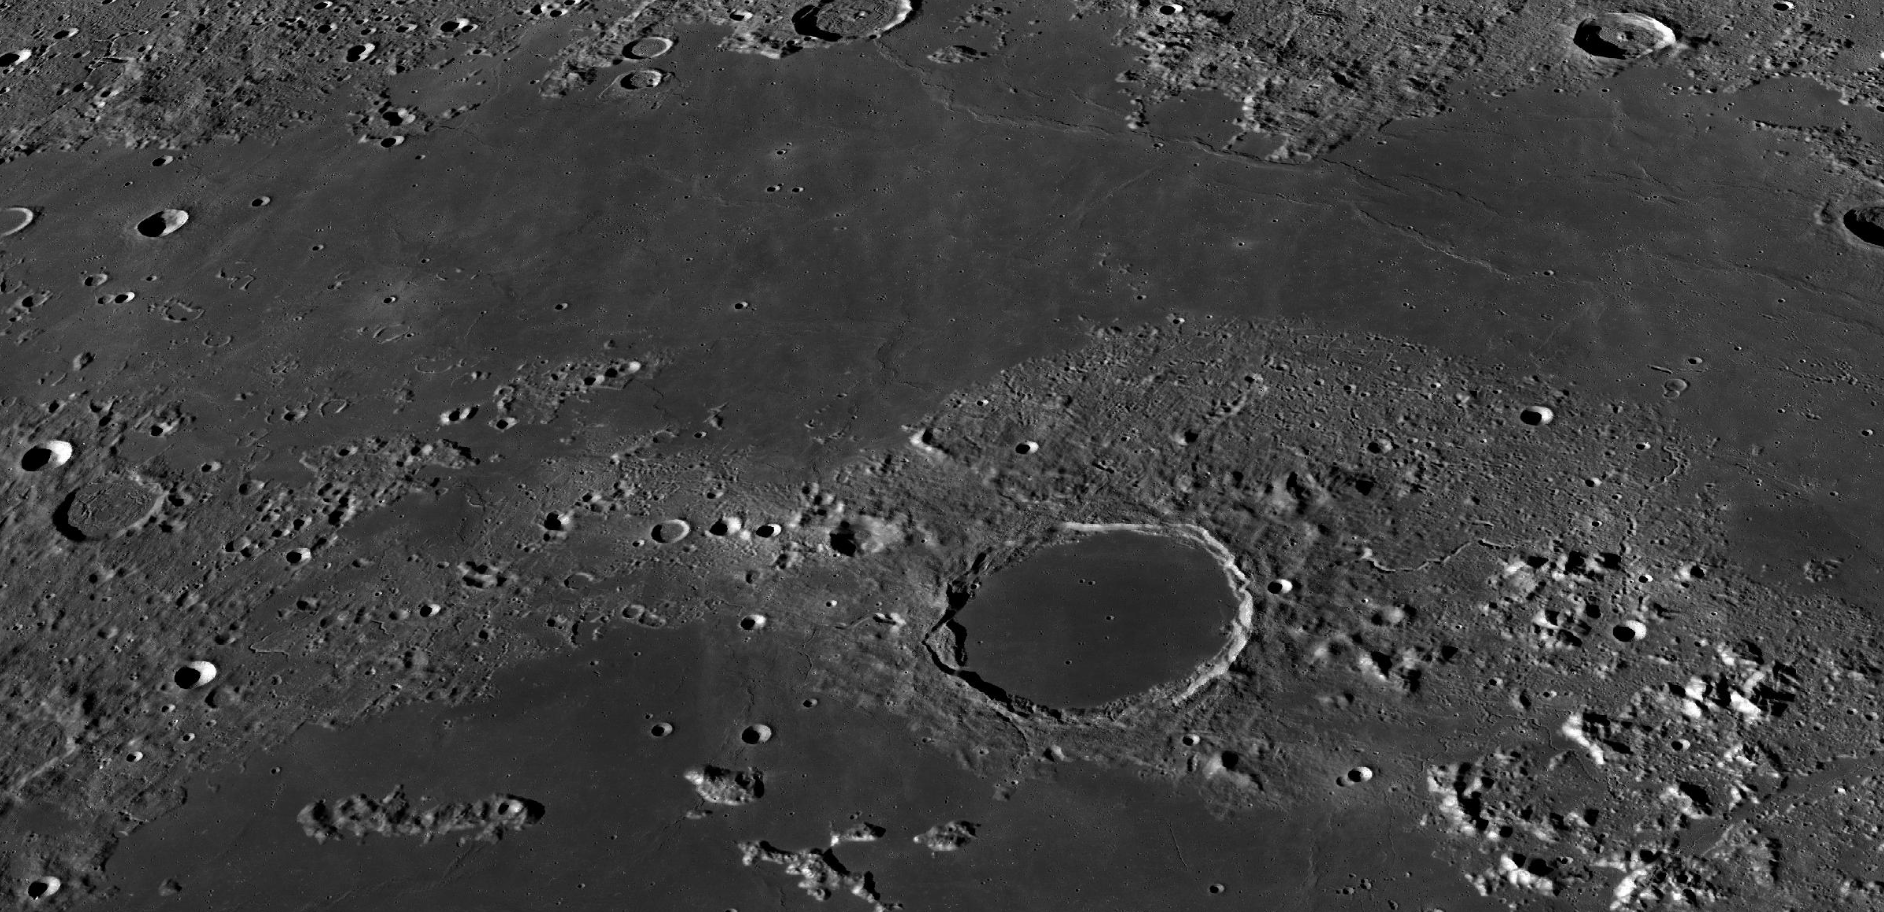crater: (905, 507, 1272, 773), (32, 466, 186, 558), (1550, 4, 1703, 85), (751, 1, 953, 62), (817, 502, 916, 576), (123, 187, 197, 248), (628, 509, 692, 559)
